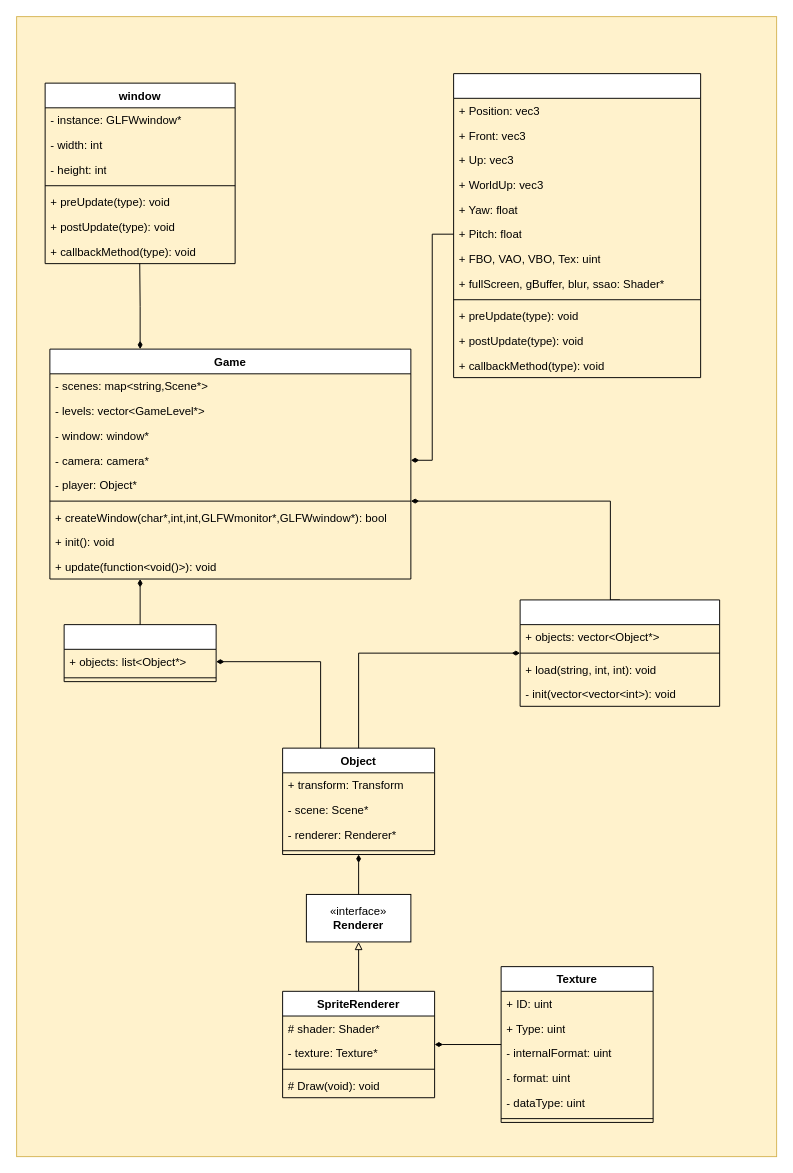
The diagram is 793 pixels wide and 1173 high, and some of its shapes have lost their labels. Here are the shapes that lost their labels. From the top down, the box of each, then its label:
(453, 73, 701, 378): camera
(63, 624, 216, 682): Scene
(519, 599, 720, 706): GameLevel
